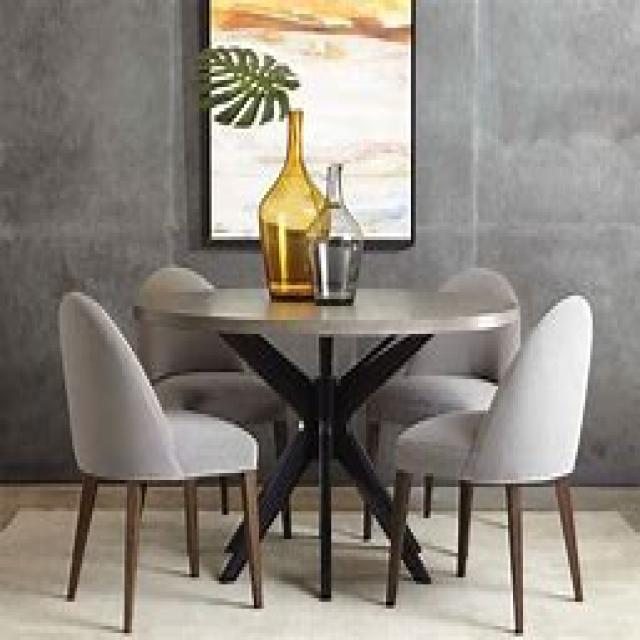chair: (386, 292, 593, 633), (58, 288, 262, 630), (132, 261, 291, 546), (361, 264, 521, 543)
table: (132, 282, 518, 602)
